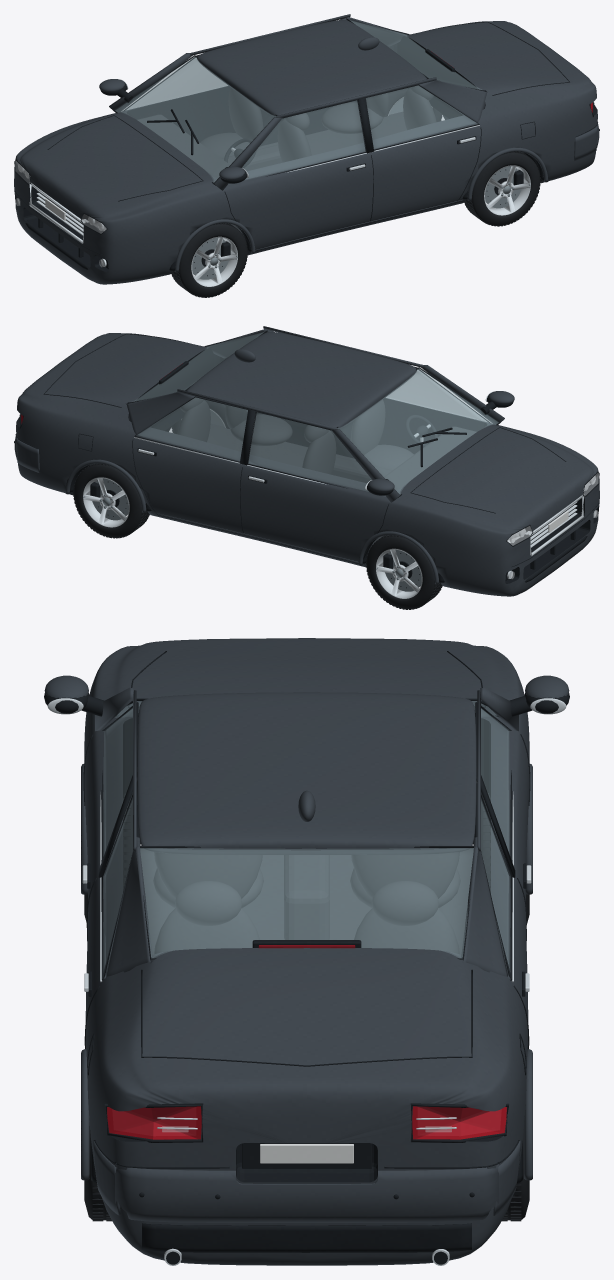
Rendered from graphite-four-door-sedan_cc0.glb.
3 renders of one model, top to bottom at view 1: azimuth 30°, elevation 25°; view 2: azimuth 150°, elevation 25°; view 3: azimuth 270°, elevation 25°, orthographic. The views are drawn at different scales.
Parts seen in each view (by area): view 1: Watertight 14-station body shell, Crowned roof pressing, Raked laminated windshield, Front side door glass, Rear side door glass, 107 reused Sculpted_tyre, 107 reused Sculpted_tyre.002, Sloping rear glass, Front side door glass.001, Instrument panel, Cabin carpet, Surface integrated sedan rear roof pillar (+21 smaller); view 2: Watertight 14-station body shell, Crowned roof pressing, Raked laminated windshield, Front side door glass.001, Rear side door glass.001, 107 reused Sculpted_tyre.001, 107 reused Sculpted_tyre.003, Sloping rear glass, Front side door glass, Instrument panel, Cabin carpet, Surface integrated sedan rear roof pillar.001 (+21 smaller); view 3: Watertight 14-station body shell, Crowned roof pressing, Sloping rear glass, Formed painted rear bumper cover, Sculpted rear lower bumper insert, Cabin carpet, Center console, Contoured seat back, Contoured seat back.001, Surface integrated sedan rear roof pillar.001, Surface integrated sedan rear roof pillar, Contoured seat back.002 (+21 smaller).
Boxes of the visible parts, <box> form: Watertight 14-station body shell: <box>14,21,597,284</box>; Crowned roof pressing: <box>197,20,426,116</box>; Raked laminated windshield: <box>115,56,275,182</box>; Front side door glass: <box>228,100,365,184</box>; Rear side door glass: <box>366,85,477,149</box>; 107 reused Sculpted_tyre: <box>172,223,247,297</box>; 107 reused Sculpted_tyre.002: <box>465,151,539,225</box>; Sloping rear glass: <box>350,20,481,89</box>; Front side door glass.001: <box>127,58,227,109</box>; Instrument panel: <box>137,114,229,177</box>; Cabin carpet: <box>223,112,406,240</box>; Surface integrated sedan rear roof pillar: <box>419,80,487,122</box>; Watertight 14-station body shell: <box>16,333,599,596</box>; Crowned roof pressing: <box>187,332,416,428</box>; Raked laminated windshield: <box>338,368,498,494</box>; Front side door glass.001: <box>248,412,385,496</box>; Rear side door glass.001: <box>136,397,247,461</box>; 107 reused Sculpted_tyre.001: <box>366,535,441,609</box>; 107 reused Sculpted_tyre.003: <box>73,464,148,537</box>; Sloping rear glass: <box>132,332,263,401</box>; Front side door glass: <box>386,370,486,421</box>; Instrument panel: <box>384,426,476,489</box>; Cabin carpet: <box>207,424,390,552</box>; Surface integrated sedan rear roof pillar.001: <box>126,392,194,434</box>; Watertight 14-station body shell: <box>84,638,529,1265</box>; Crowned roof pressing: <box>137,692,476,854</box>; Sloping rear glass: <box>140,848,473,958</box>; Formed painted rear bumper cover: <box>115,1164,498,1222</box>; Sculpted rear lower bumper insert: <box>142,1223,471,1252</box>; Cabin carpet: <box>140,845,473,954</box>; Center console: <box>284,855,329,939</box>; Contoured seat back: <box>154,852,262,898</box>; Contoured seat back.001: <box>351,852,459,898</box>; Surface integrated sedan rear roof pillar.001: <box>461,837,507,976</box>; Surface integrated sedan rear roof pillar: <box>106,837,152,976</box>; Contoured seat back.002: <box>154,908,259,953</box>.
Bounding box in the file's own units: 4.84 × 1.55 × 2.18.
10 materials, 10 textured.
